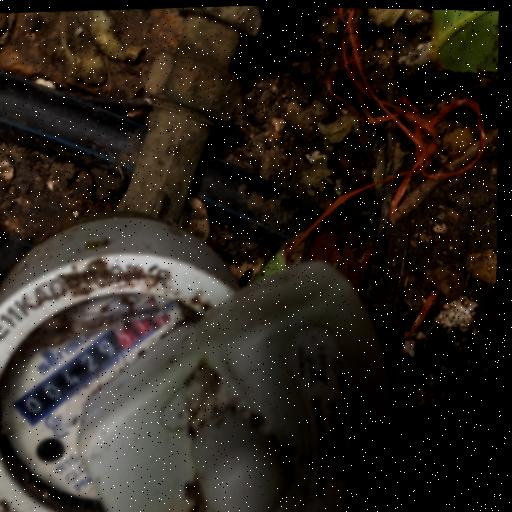0: (13, 386, 52, 424), (32, 373, 70, 410)
1: (123, 307, 155, 340)
2: (70, 345, 108, 382)
4: (51, 358, 90, 397)
5: (106, 317, 143, 353)
9: (87, 331, 125, 367)
border_water_meter_number: (4, 288, 183, 434)
